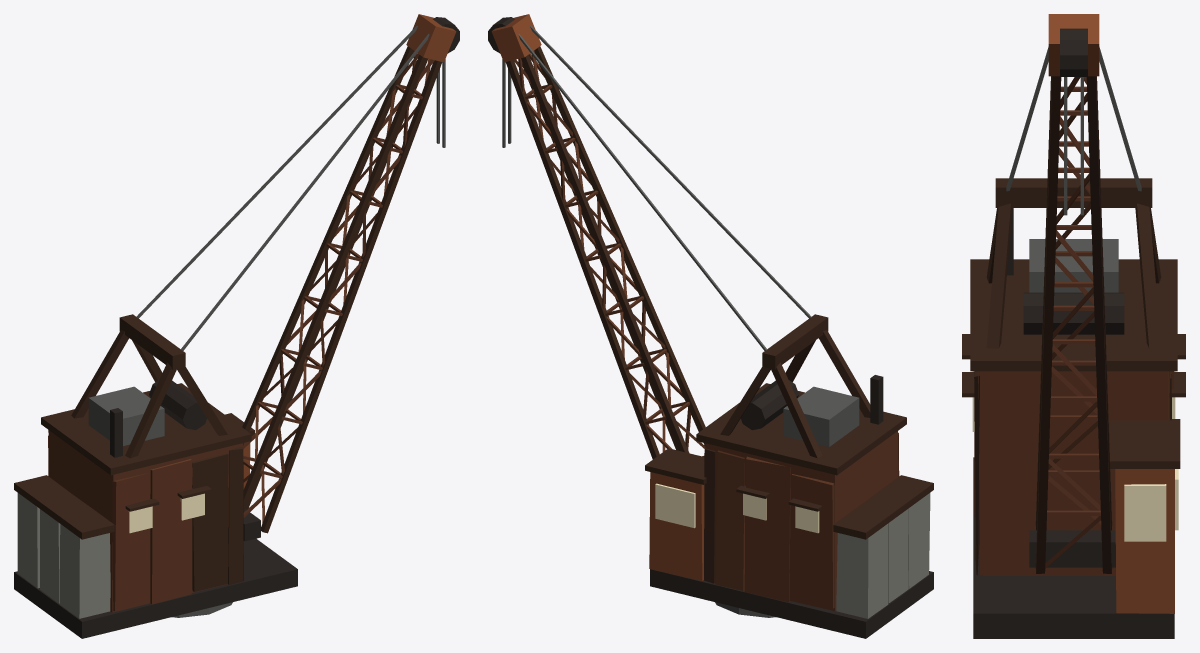
Rendered from crane_upper.glb.
3 views of the same model, side by side, from view 1: azimuth 30°, elevation 25°; view 2: azimuth 150°, elevation 25°; view 3: azimuth 270°, elevation 25° (orthographic). The views are drawn at different scales.
Parts seen in each view (by area): view 1: crane_upper; view 2: crane_upper; view 3: crane_upper.
Part boxes in pixels (x1,y1,x2,y2): crane_upper: [14, 14, 459, 638]; crane_upper: [488, 14, 933, 638]; crane_upper: [962, 14, 1185, 638].
Size of the model in its own units: 12.44 by 14.94 by 4.
